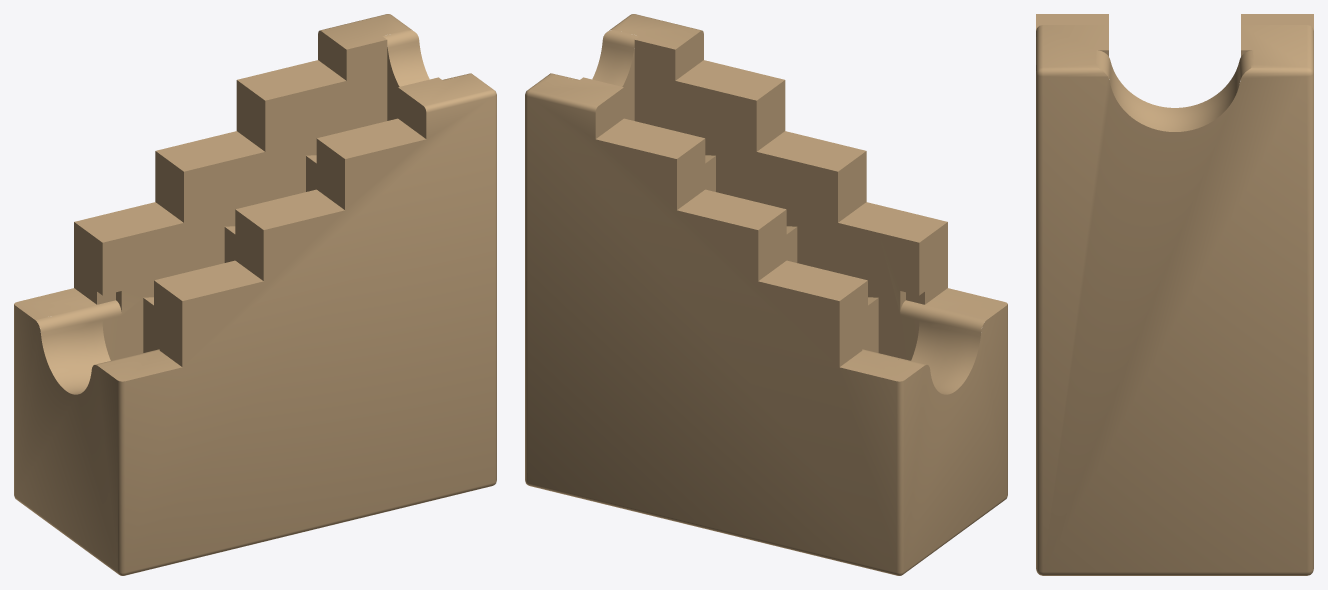
File: mech_stepper_up1_l3.glb
The picture shows the model from 3 angles, left to right: view 1: azimuth 30°, elevation 25°; view 2: azimuth 150°, elevation 25°; view 3: azimuth 270°, elevation 25°; orthographic projection. The views are drawn at different scales.
Parts seen in each view (by area): view 1: mech_stepper_up1_l3_lod0; view 2: mech_stepper_up1_l3_lod0; view 3: mech_stepper_up1_l3_lod0.
Part boxes in pixels (box(x1,y1,x2,y2)): mech_stepper_up1_l3_lod0: box(14, 14, 496, 575); mech_stepper_up1_l3_lod0: box(525, 14, 1007, 575); mech_stepper_up1_l3_lod0: box(1036, 14, 1313, 575).
Size of what is drawn, in the model's own units: 0.119 by 0.119 by 0.059.
